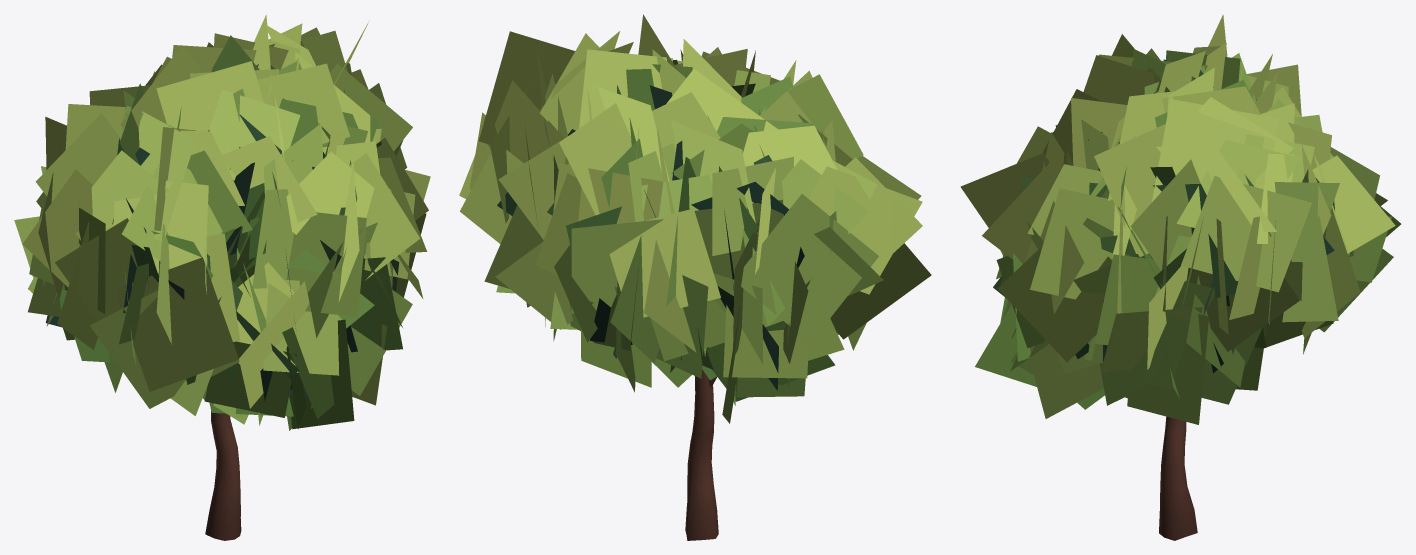
The model's file is Broadleaf.fbx.
The picture shows the model from 3 angles, left to right: view 1: azimuth 30°, elevation 25°; view 2: azimuth 150°, elevation 25°; view 3: azimuth 270°, elevation 25°; orthographic projection. The views are drawn at different scales.
Parts seen in each view (by area): view 1: Broadleaf; view 2: Broadleaf; view 3: Broadleaf.
Part boxes in pixels (<box>): Broadleaf: <box>14,15,430,540</box>; Broadleaf: <box>459,14,931,540</box>; Broadleaf: <box>960,14,1401,540</box>.
Size of the model in its own units: 6.68 by 7.29 by 6.02.
